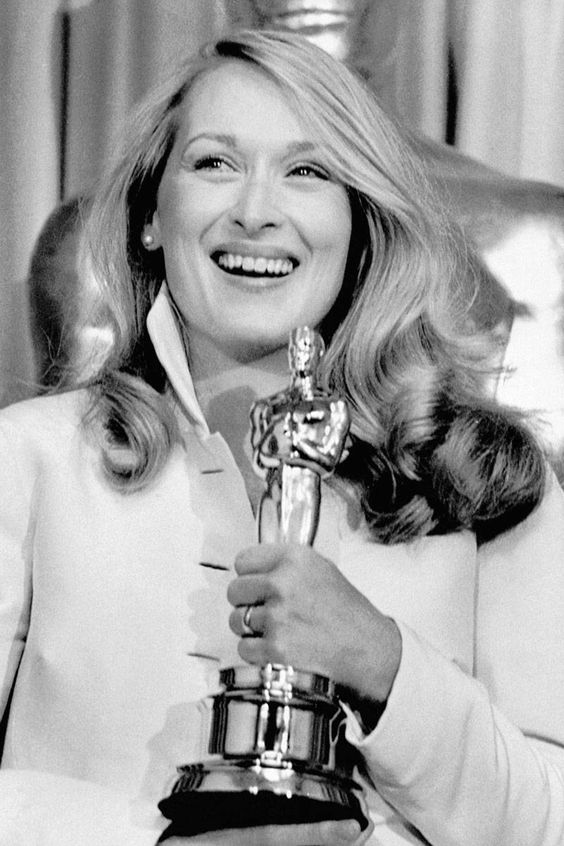hand: (228, 554, 403, 687)
